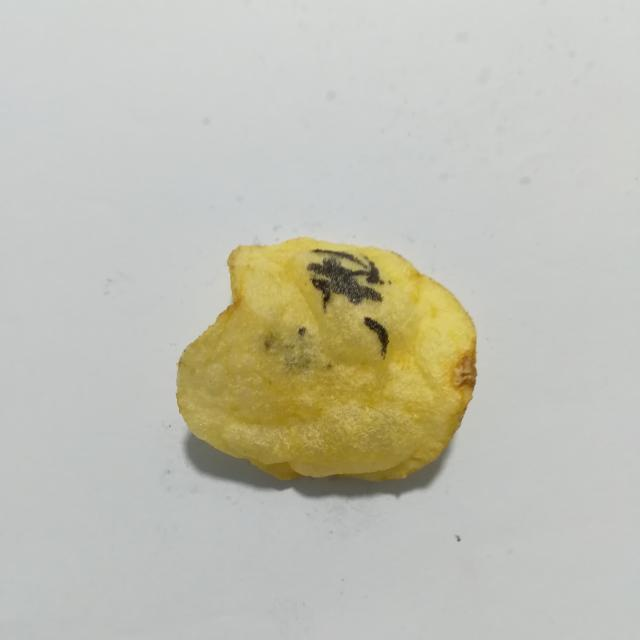chip: (177, 238, 476, 480)
damaged: (307, 258, 381, 307), (311, 248, 368, 269), (364, 317, 389, 359), (353, 261, 384, 285), (298, 327, 306, 335)
semi-damaged: (264, 335, 317, 373)
